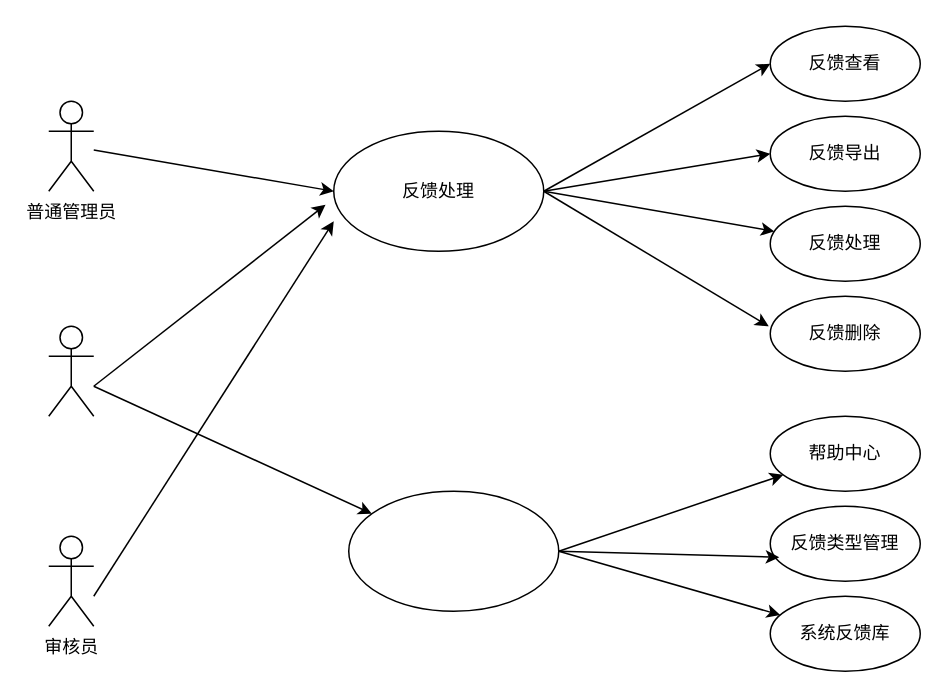
Image size: 947x698. Some labels were removed from this diagram. Each missing label, with the centre of its shape:
"超级管理员" goes at (x=70, y=370).
"配置管理" goes at (x=453, y=550).
